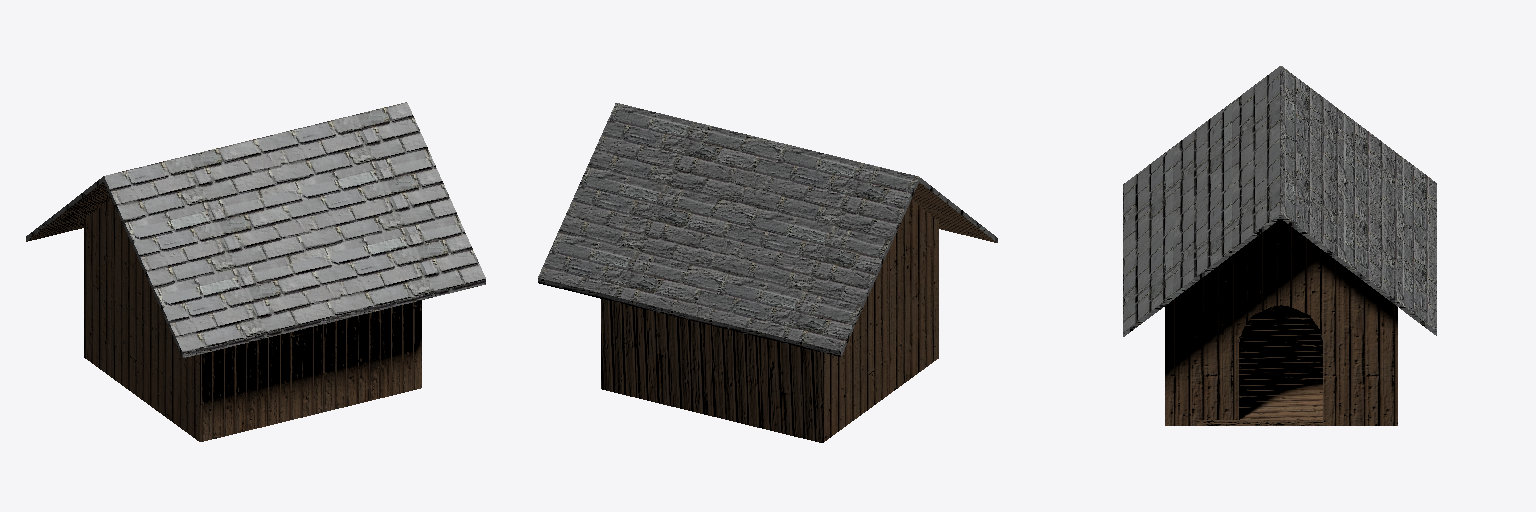
3 renders of one model, left to right at view 1: azimuth 30°, elevation 25°; view 2: azimuth 150°, elevation 25°; view 3: azimuth 270°, elevation 25°, orthographic.
Parts seen in each view (by area): view 1: Cube.001_Cube.003; view 2: Cube.001_Cube.003; view 3: Cube.001_Cube.003.
Part boxes in pixels (x1,y1,x2,y2): Cube.001_Cube.003: (26, 102, 485, 441); Cube.001_Cube.003: (538, 103, 997, 442); Cube.001_Cube.003: (1123, 66, 1436, 425).
Size of the model in its own units: 4.34 by 3.19 by 3.89.
1 materials, 1 textured.